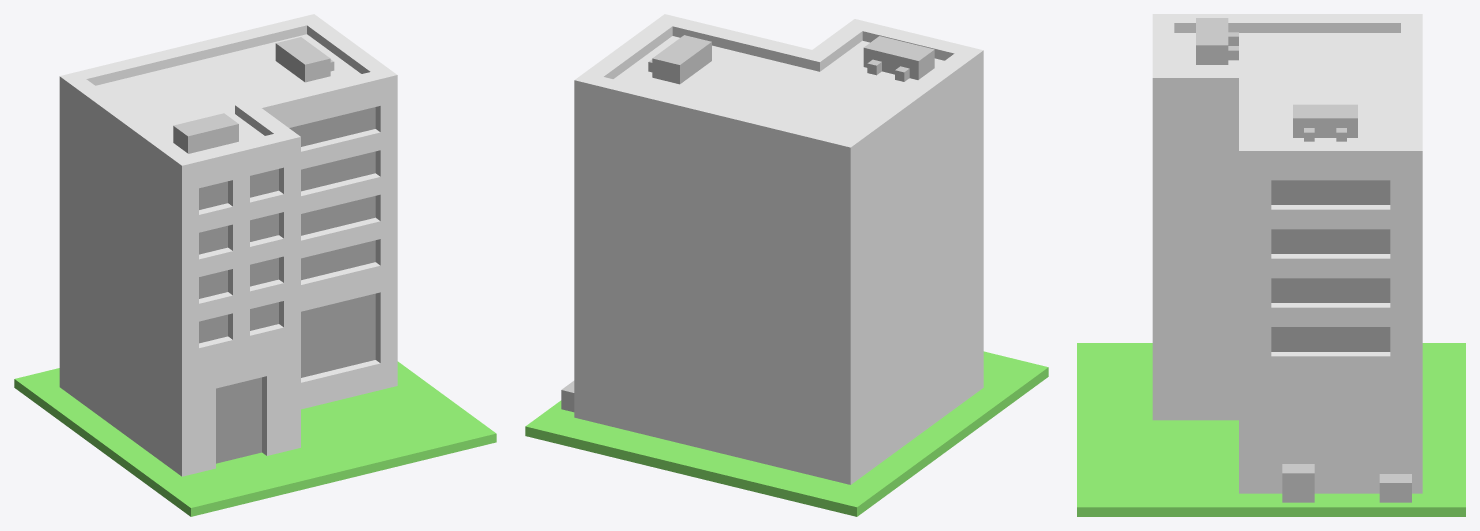
3 renders of one model, left to right at view 1: azimuth 30°, elevation 25°; view 2: azimuth 150°, elevation 25°; view 3: azimuth 270°, elevation 25°, orthographic. The views are drawn at different scales.
Visible parts, largest first — view 1: ObjObject.006; view 2: ObjObject.006; view 3: ObjObject.006.
Boxes of the visible parts, x1,y1,x2,y2 form: ObjObject.006: [14, 14, 496, 516]; ObjObject.006: [525, 14, 1048, 516]; ObjObject.006: [1077, 14, 1465, 516].
Bounding box in the file's own units: 2 × 2 × 2.06.
